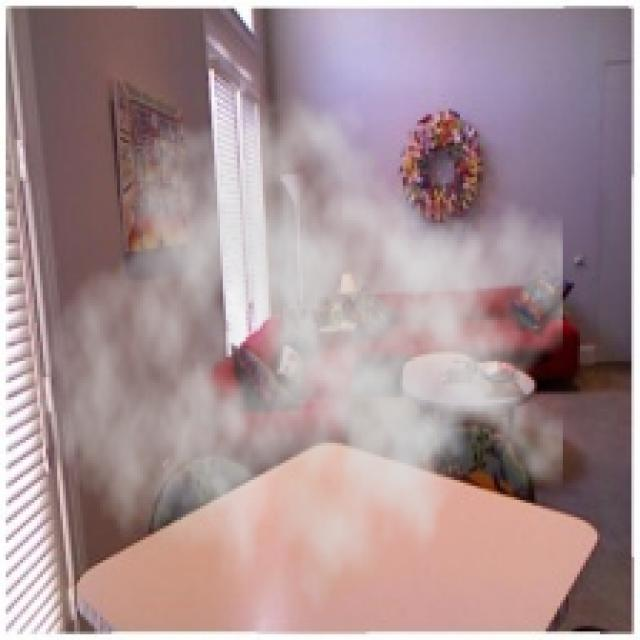smoke: (46, 74, 566, 637)
